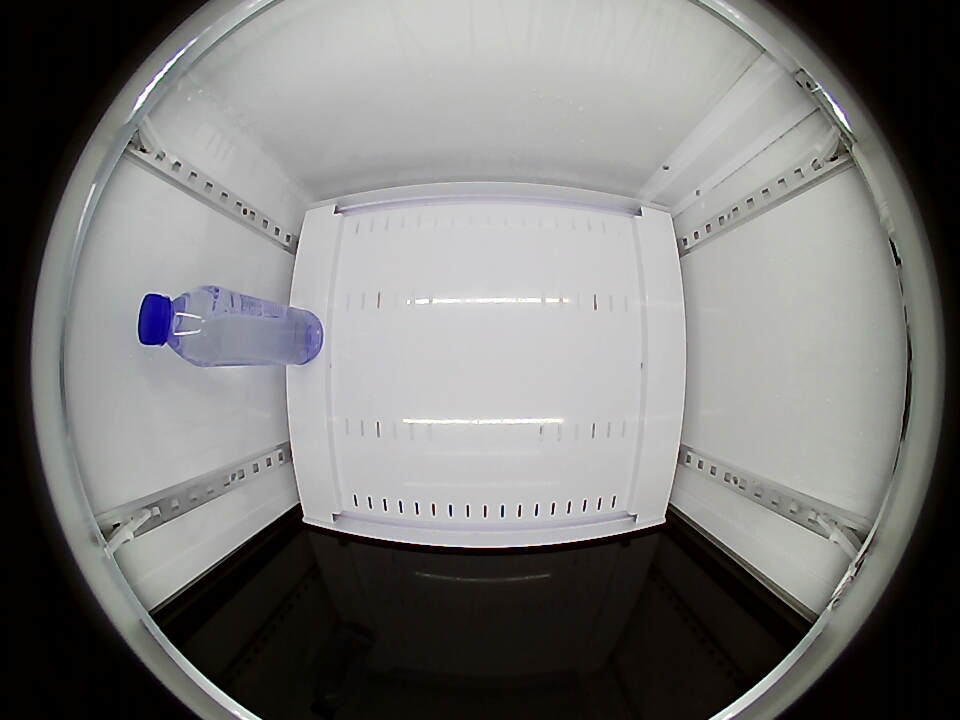aerbeisi: (138, 286, 228, 365)
